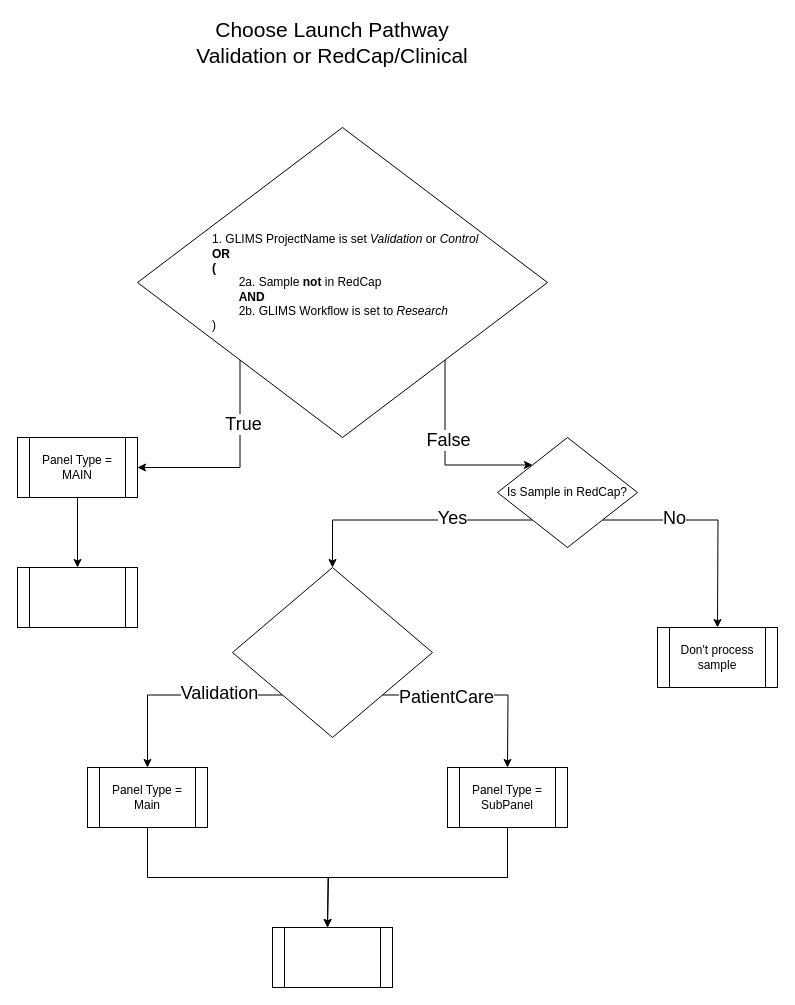
Some shapes in this 795 by 1005 pixel diagram are drawn without their labels. Here are the shapes that lost their labels. From the top down, the box of each, then its label:
(16, 566, 138, 628): Validation Launch
(232, 566, 432, 738): RedCap SampleType
(272, 926, 392, 988): RedCap / Clinical Launch
